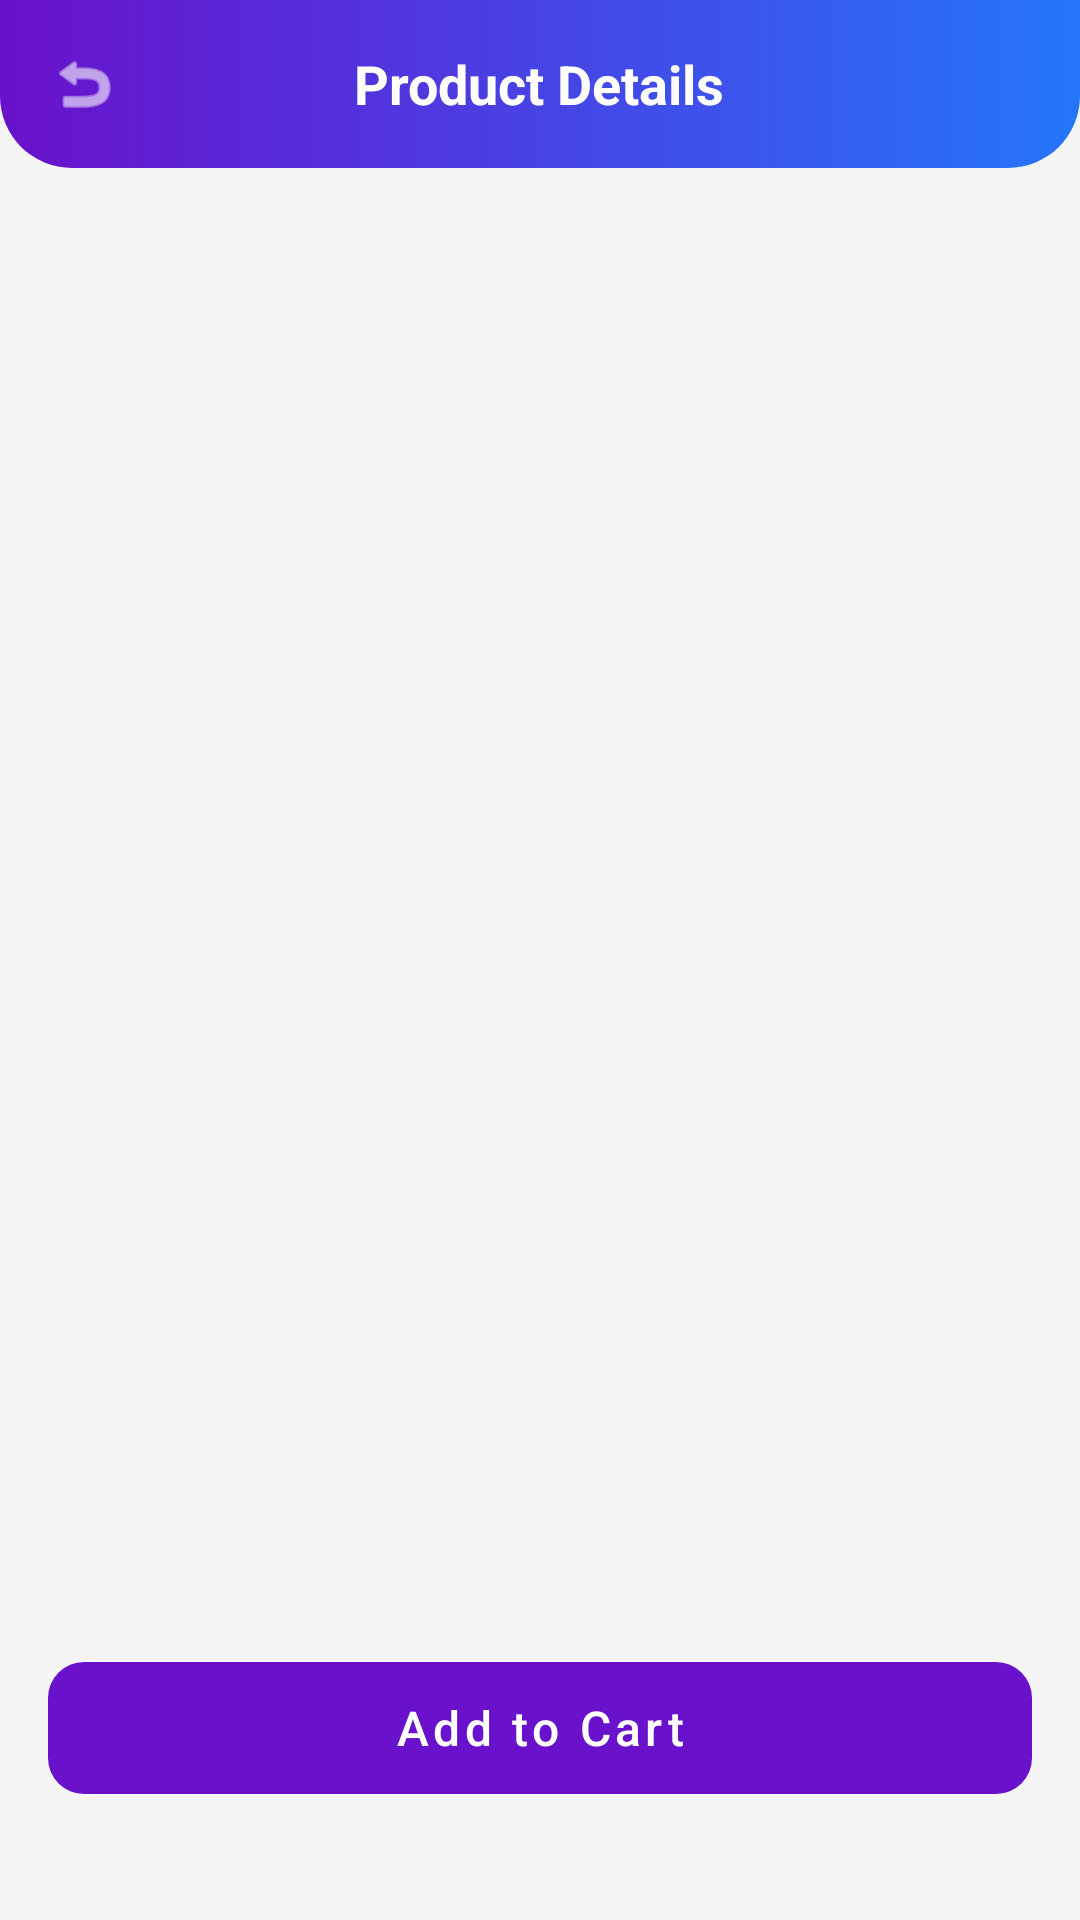

Icons on this 1080 × 1920 Android screen, each with its box as (x1, y1, x2, y2):
revert: (59, 61, 111, 108)
